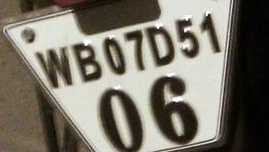0: (97, 87, 146, 152), (103, 35, 129, 77)
1: (198, 12, 226, 54)
5: (174, 14, 202, 59)
6: (149, 74, 200, 146)
7: (123, 27, 149, 71)
B: (71, 40, 105, 84)
D: (145, 24, 177, 67)
W: (34, 45, 75, 89)
